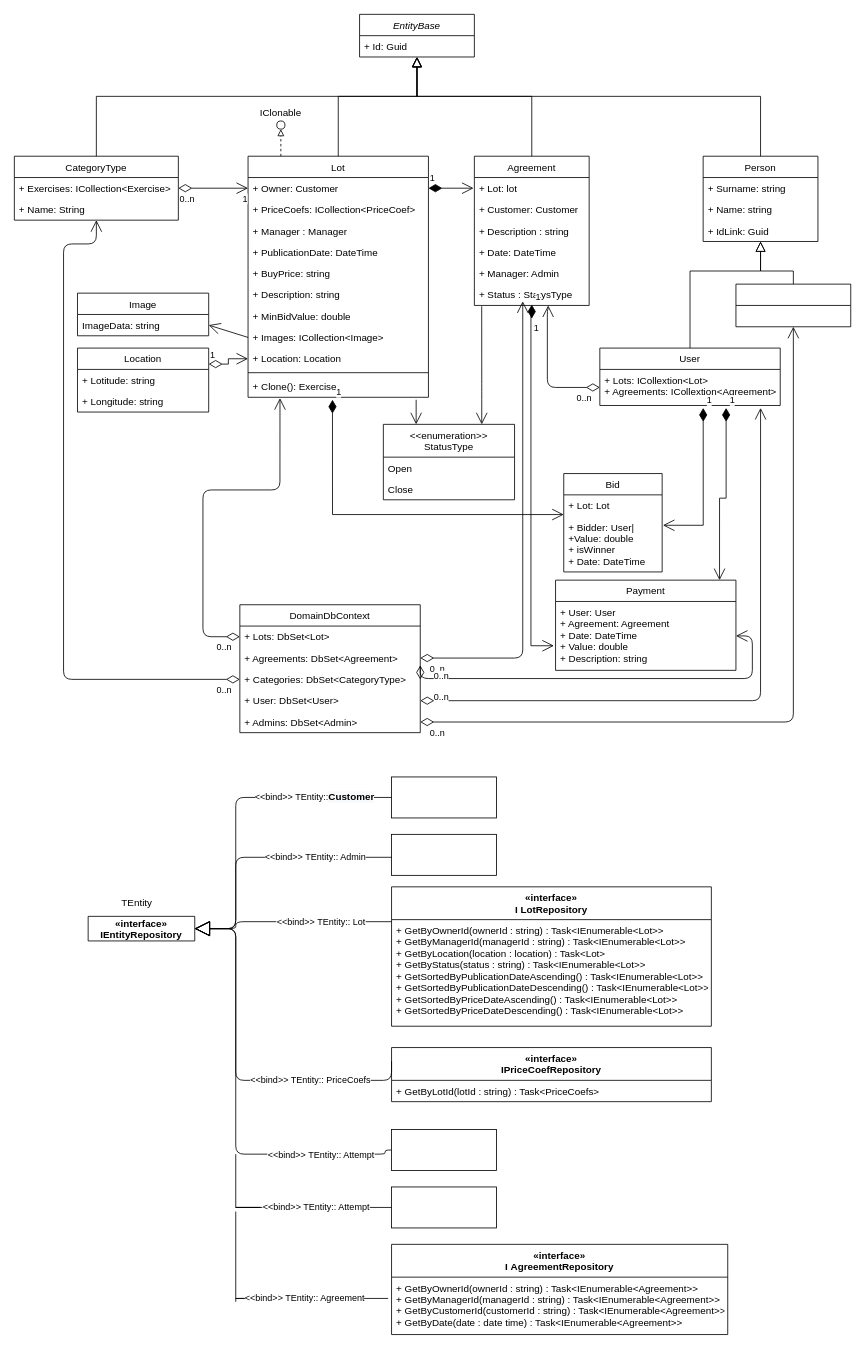
Some shapes in this 865 by 1351 pixel diagram are drawn without their labels. Here are the shapes that lost their labels. From the top down, the centre of each, then its label:
pixel 793 305: Admin
pixel 444 797: «interface» ICustomerRepository
pixel 444 854: «interface» IAdminRepository
pixel 444 1150: «interface» IImageRepository
pixel 444 1207: «interface» IPaymentRepository
